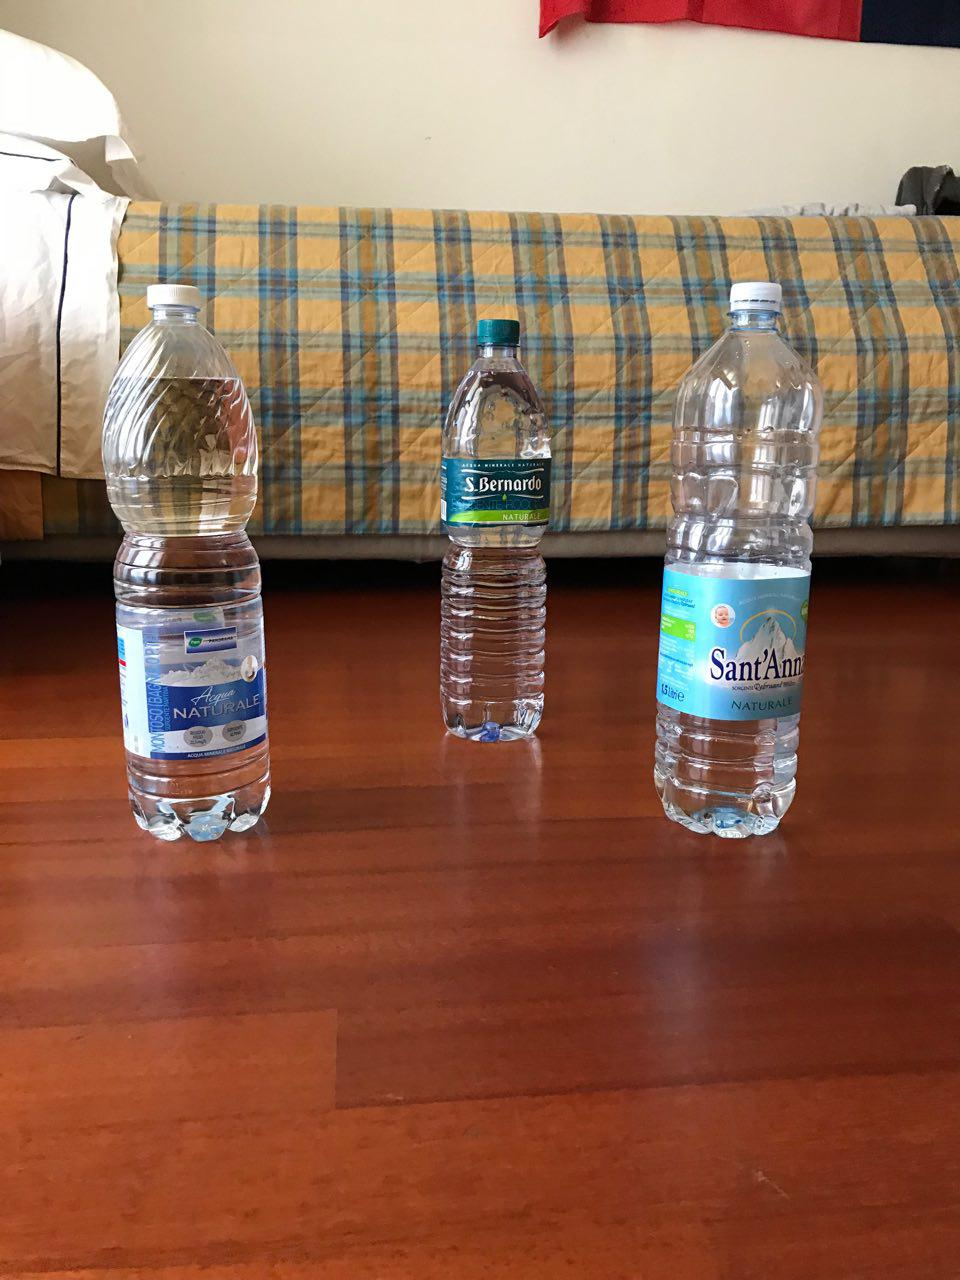san_bernardo: (438, 317, 552, 744)
